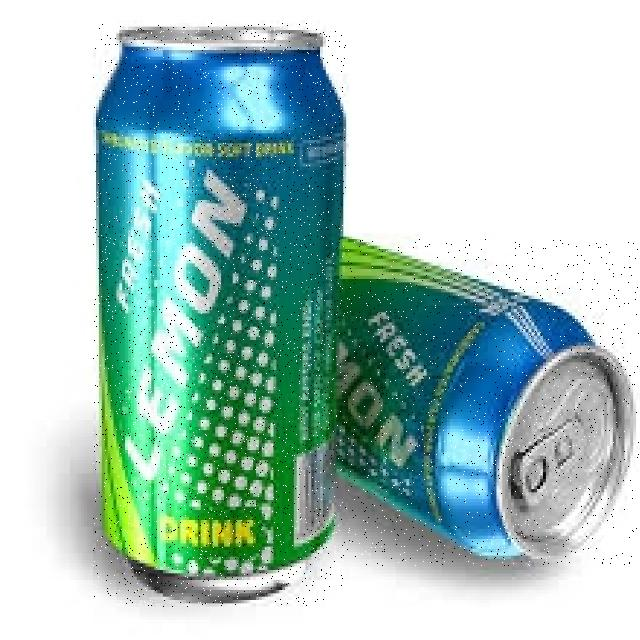metal: (93, 23, 346, 607), (334, 240, 639, 566)
